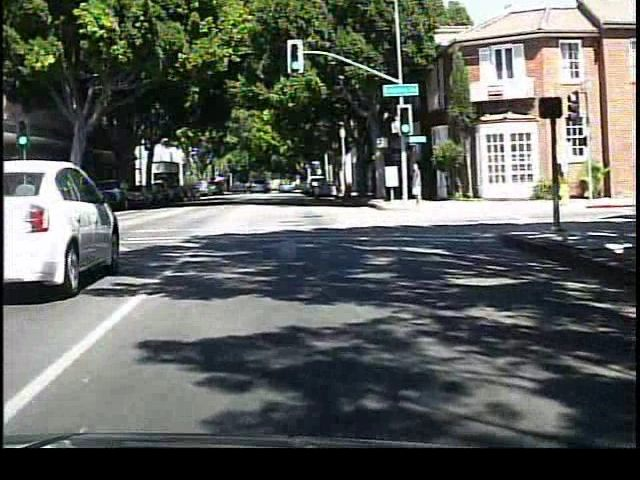person: (409, 158, 429, 210)
